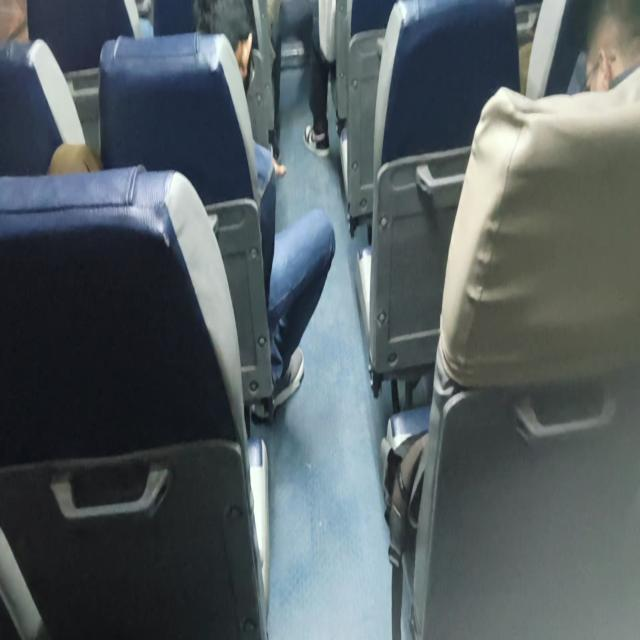person: (176, 0, 261, 115), (586, 0, 640, 110)
